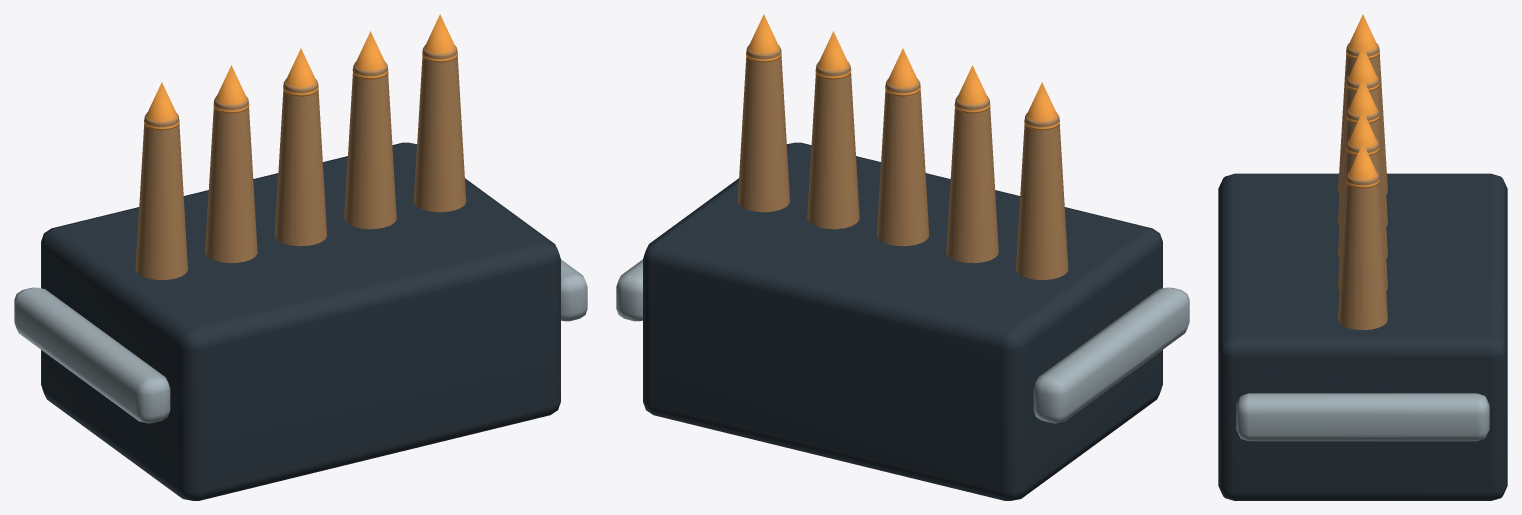
File: 22_ammo_cache.glb
The picture shows the model from 3 angles, left to right: view 1: azimuth 30°, elevation 25°; view 2: azimuth 150°, elevation 25°; view 3: azimuth 270°, elevation 25°; orthographic projection. The views are drawn at different scales.
Visible parts, largest first — view 1: Ammo cage, Shell, Rack handle, Shell cap; view 2: Ammo cage, Shell, Rack handle, Shell cap; view 3: Ammo cage, Rack handle, Shell, Shell cap.
Boxes of the visible parts, x1,y1,x2,y2 form: Ammo cage: [41, 142, 560, 500]; Shell: [135, 45, 466, 279]; Rack handle: [14, 259, 587, 423]; Shell cap: [144, 14, 457, 130]; Ammo cage: [643, 142, 1162, 500]; Shell: [737, 45, 1068, 279]; Rack handle: [616, 259, 1189, 423]; Shell cap: [746, 14, 1059, 130]; Ammo cage: [1218, 173, 1507, 500]; Rack handle: [1236, 393, 1489, 441]; Shell: [1338, 43, 1387, 329]; Shell cap: [1346, 14, 1379, 188].
Size of the model in its own units: 1.36 by 1.04 by 0.8.
